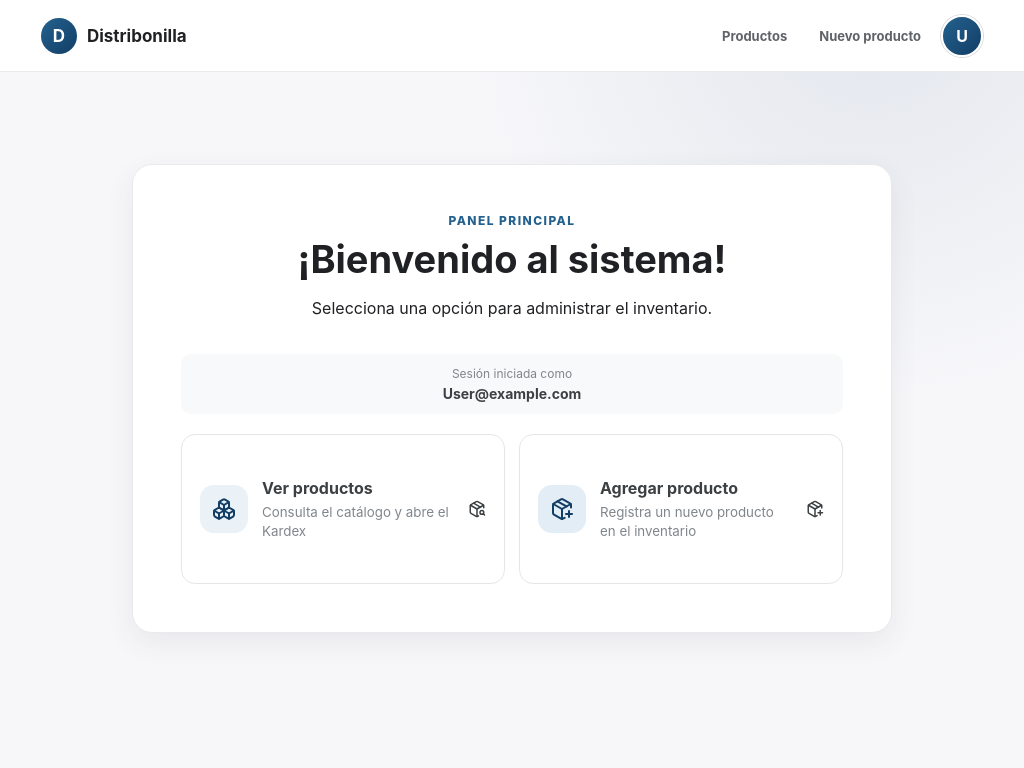
Test: SIGNED_OUT takes precedence over a late initial read with the old session
Expected: the heading "¡Bienvenido al sistema!" is shown, [298,236,726,282]
Click the button named "Abrir menú de usuario": [962, 36] box [941,14,983,56]
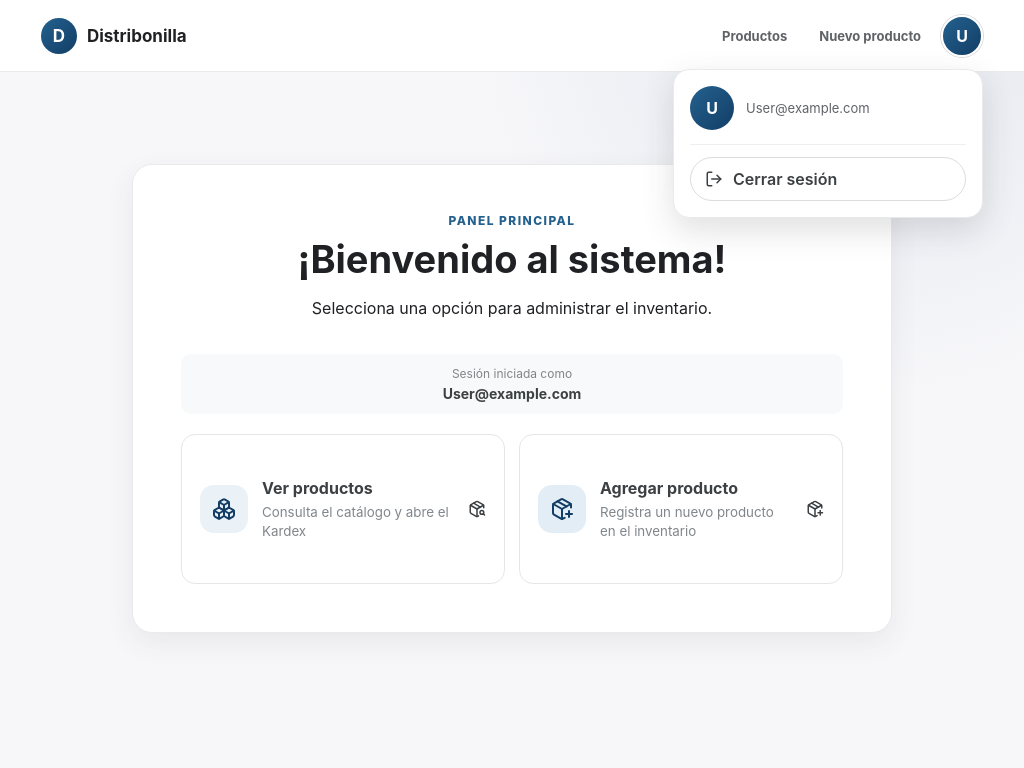
Click the menu item "Cerrar sesión": [828, 178] box [690,156,966,200]
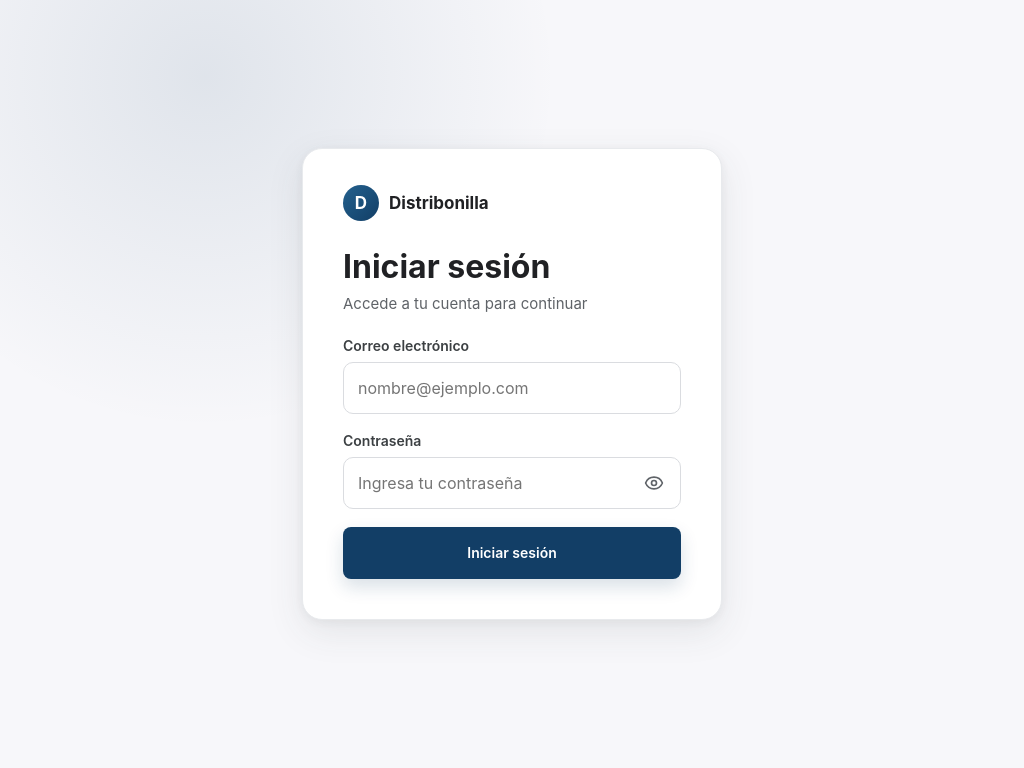
Now the heading "Iniciar sesión" is shown, box [343,247,550,286]
Now the heading "Bienvenido" is gone
